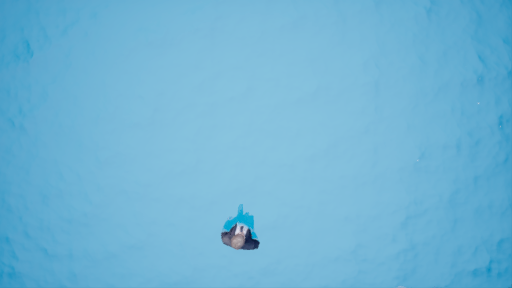person: (218, 203, 263, 252)
